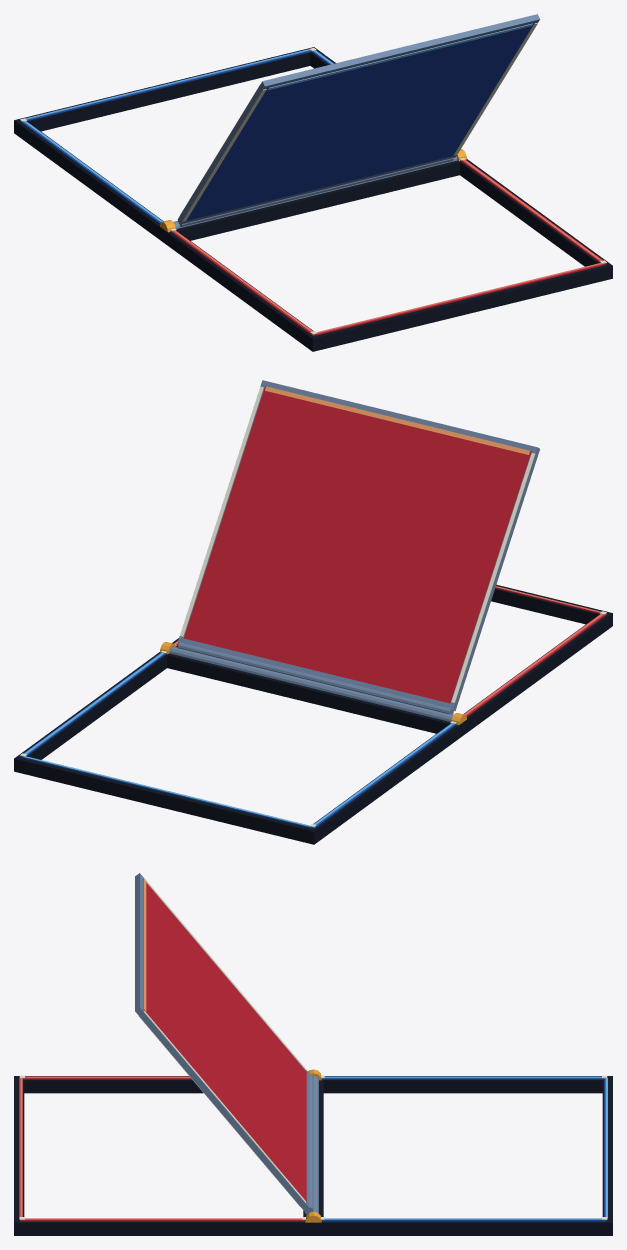
File: jump_flip_pair_flip_17.obj
The picture shows the model from 3 angles, top to bottom: view 1: azimuth 30°, elevation 25°; view 2: azimuth 150°, elevation 25°; view 3: azimuth 270°, elevation 25°; orthographic projection.
Parts seen in each view (by area): view 1: blue_top, red_end_shell, red_side_shell, blue_end_shell, reversible_leaf, blue_side_shell, red_border, red_rim_light, blue_border, blue_rim_light, blue_side_trim, leaf_hinge (+1 smaller); view 2: red_bottom, blue_end_shell, blue_side_shell, reversible_leaf, red_side_shell, red_side_trim, hinge_axle, leaf_hinge, red_end_shell, blue_rim_light, blue_border, red_end_bar (+2 smaller); view 3: red_bottom, blue_side_shell, red_side_shell, reversible_leaf, blue_end_shell, blue_rim_light, blue_border, red_rim_light, red_border, red_end_shell, red_side_trim, hinge_axle (+2 smaller).
Boxes of the visible parts, <box> form: blue_top: <box>186,23,534,220</box>; red_end_shell: <box>163,159,612,350</box>; red_side_shell: <box>163,160,612,351</box>; blue_end_shell: <box>14,47,314,240</box>; reversible_leaf: <box>177,14,540,224</box>; blue_side_shell: <box>14,47,335,238</box>; red_border: <box>170,159,606,335</box>; red_rim_light: <box>173,160,602,333</box>; blue_border: <box>20,50,333,223</box>; blue_rim_light: <box>23,49,333,222</box>; blue_side_trim: <box>182,23,537,221</box>; leaf_hinge: <box>177,158,453,227</box>; red_bottom: <box>184,386,531,703</box>; blue_end_shell: <box>14,652,450,844</box>; blue_side_shell: <box>14,653,463,844</box>; reversible_leaf: <box>177,380,539,711</box>; red_side_shell: <box>172,611,612,734</box>; red_side_trim: <box>180,386,535,702</box>; hinge_axle: <box>169,646,453,721</box>; leaf_hinge: <box>177,642,453,714</box>; red_end_shell: <box>491,584,612,629</box>; blue_rim_light: <box>24,652,453,826</box>; blue_border: <box>20,652,456,828</box>; red_end_bar: <box>265,386,530,454</box>; red_bottom: <box>143,879,306,1201</box>; blue_side_shell: <box>313,1076,612,1235</box>; red_side_shell: <box>14,1076,313,1235</box>; reversible_leaf: <box>135,873,309,1211</box>; blue_end_shell: <box>313,1076,612,1235</box>; blue_rim_light: <box>324,1076,607,1219</box>; blue_border: <box>321,1076,607,1221</box>; red_rim_light: <box>20,1076,302,1219</box>; red_border: <box>19,1076,305,1221</box>; red_end_shell: <box>14,1076,313,1235</box>; red_side_trim: <box>144,878,305,1202</box>; hinge_axle: <box>311,1076,318,1213</box>.
Bounding box in the file's own units: 11.6 × 8.19 × 20.
